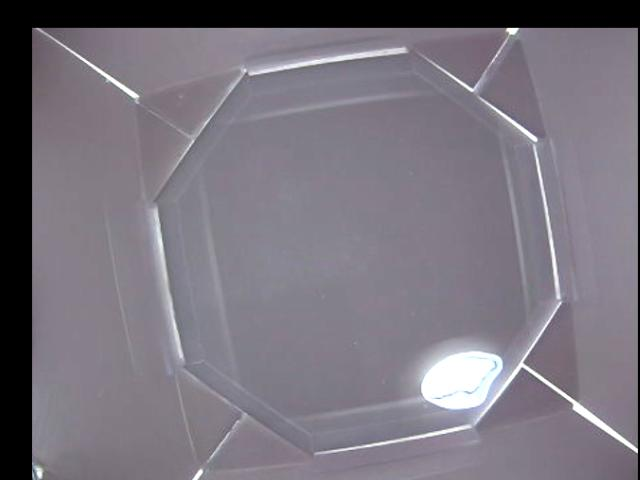Pebble: (420, 349, 501, 409)
